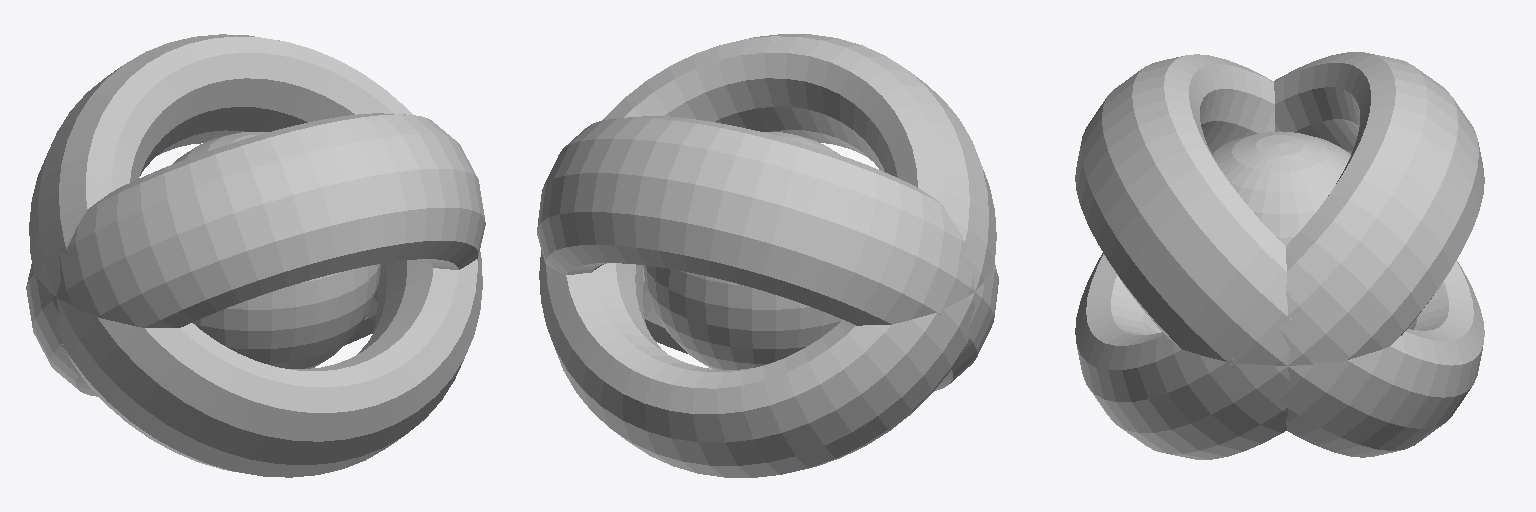
The model's file is ball1.obj.
The picture shows the model from 3 angles: view 1: azimuth 30°, elevation 25°; view 2: azimuth 150°, elevation 25°; view 3: azimuth 270°, elevation 25°; orthographic projection.
Visible parts, largest first — view 1: Torus.003, Torus.002, Sphere; view 2: Torus.002, Torus.003, Sphere; view 3: Torus.003, Torus.002, Sphere.
Boxes of the visible parts, box(x1,y1,x2,y2) form: Torus.003: box(29, 34, 482, 477); Torus.002: box(26, 113, 485, 396); Sphere: box(173, 132, 380, 368); Torus.002: box(539, 34, 996, 477); Torus.003: box(537, 116, 998, 390); Sphere: box(643, 132, 842, 369); Torus.003: box(1075, 52, 1484, 459); Torus.002: box(1075, 54, 1484, 457); Sphere: box(1211, 131, 1350, 245).
Size of the model in its own units: 1.5 by 1.21 by 1.3.